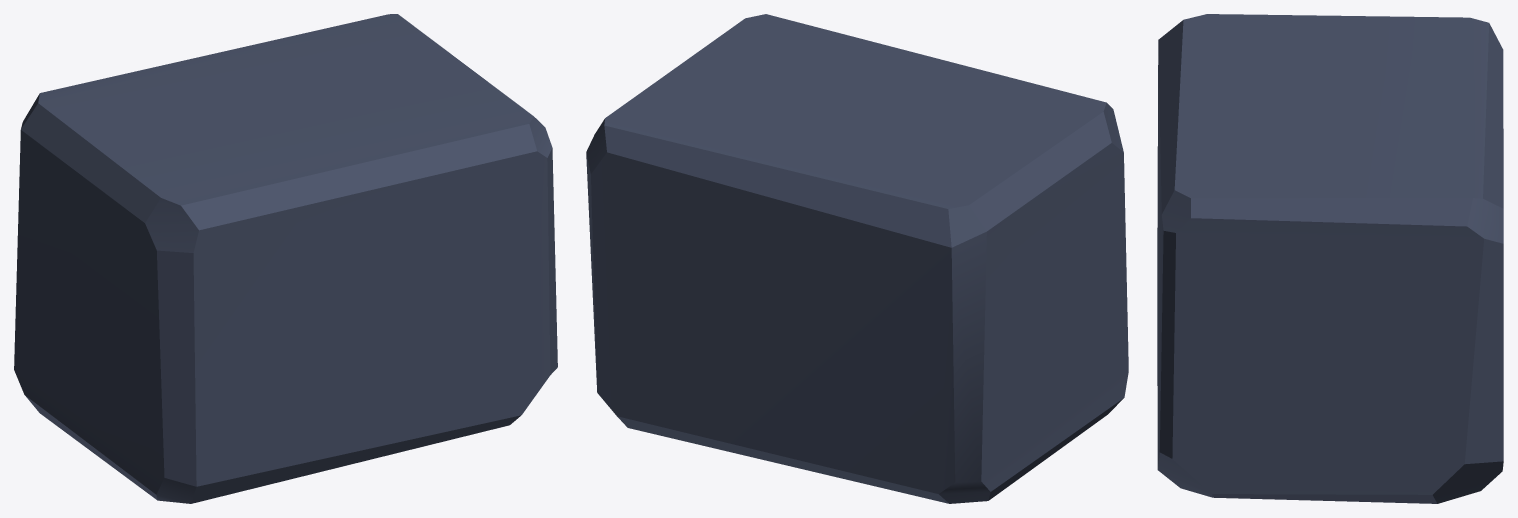
Rendered from Pave01.fbx.
3 renders of one model, left to right at view 1: azimuth 30°, elevation 25°; view 2: azimuth 150°, elevation 25°; view 3: azimuth 270°, elevation 25°, orthographic. The views are drawn at different scales.
Visible parts, largest first — view 1: Pave1; view 2: Pave1; view 3: Pave1.
Boxes of the visible parts, x1=… form: Pave1: x1=14, y1=14, x2=557, y2=503; Pave1: x1=586, y1=14, x2=1128, y2=503; Pave1: x1=1157, y1=14, x2=1503, y2=503.
Size of the model in its own units: 81.08 by 59.47 by 60.54.
